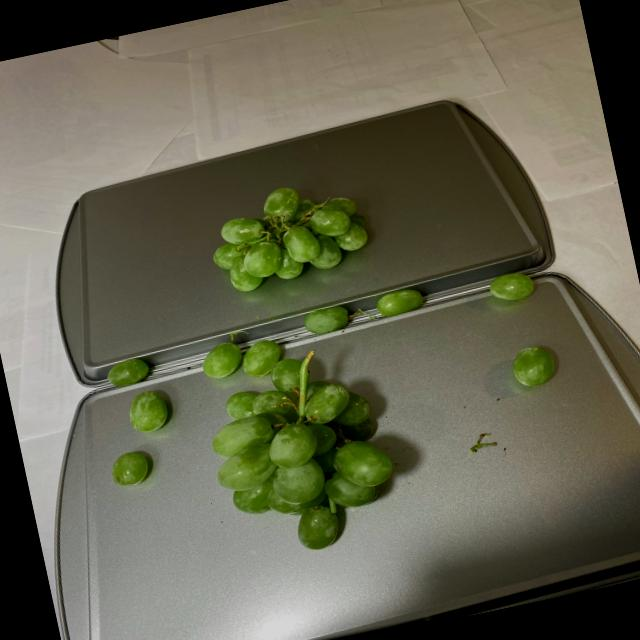grapes: (89, 260, 586, 580), (208, 171, 382, 298)
